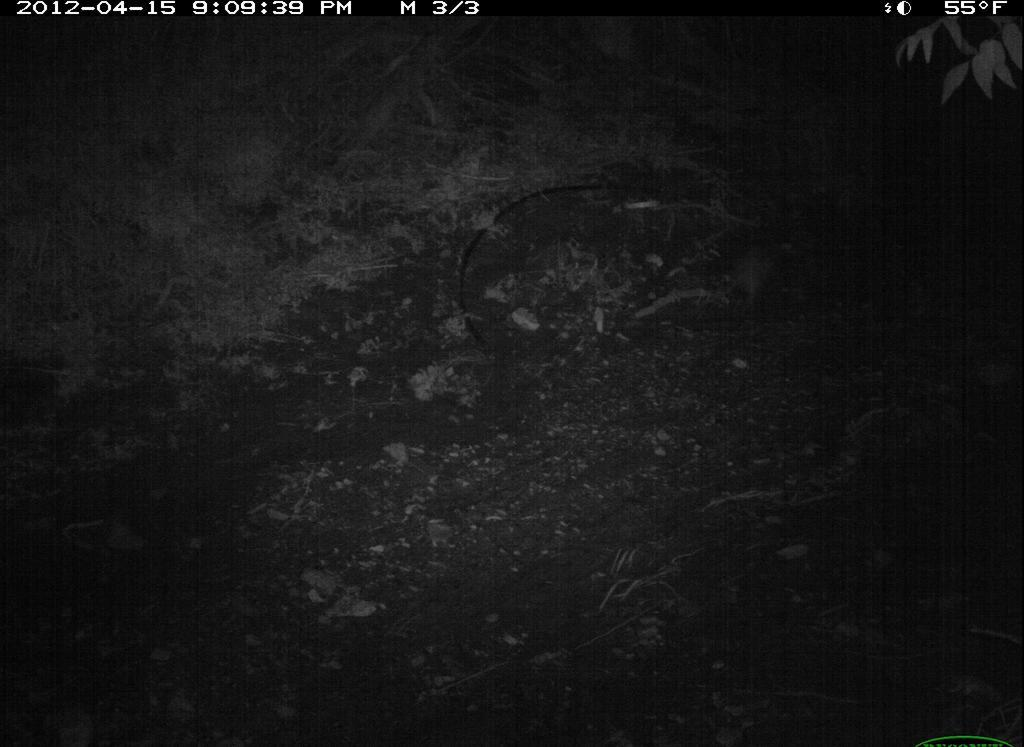opossum: (691, 234, 797, 319)
